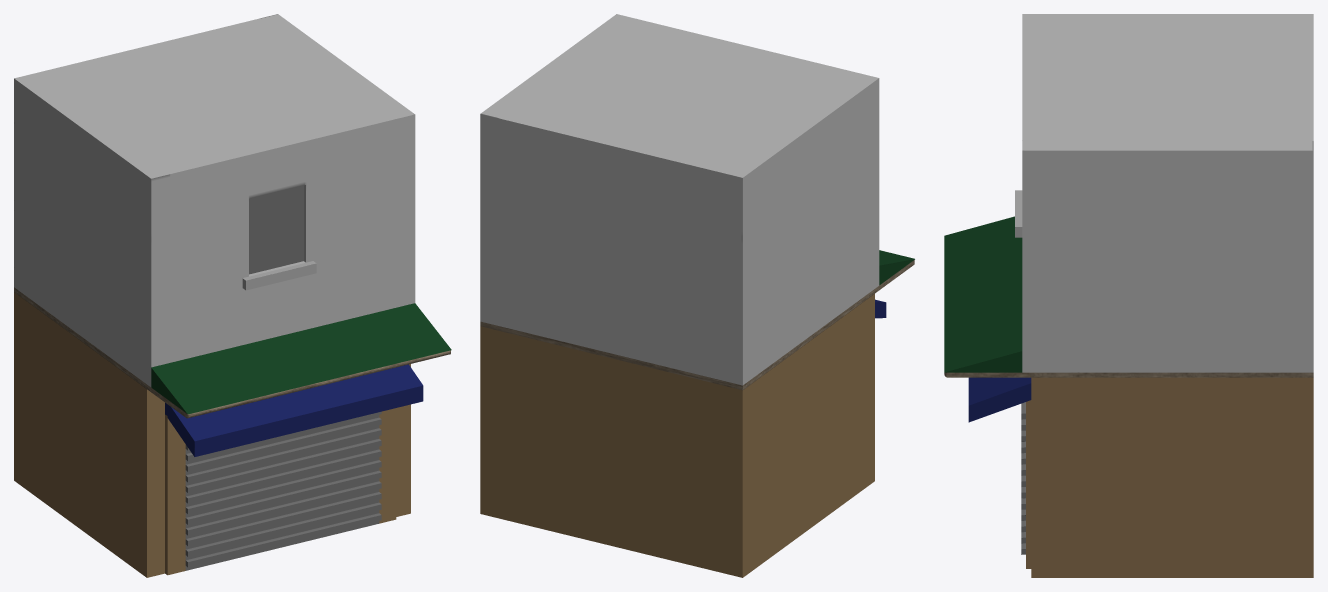
The model's file is ap_loja com portão fechado.fbx.
3 views of the same model, side by side, from view 1: azimuth 30°, elevation 25°; view 2: azimuth 150°, elevation 25°; view 3: azimuth 270°, elevation 25° (orthographic). The views are drawn at different scales.
Parts seen in each view (by area): view 1: Andar de cima, Térreo, Portão, Telha, Lona, Vidro, Telha - andar, Madeira, Parapeito janela; view 2: Andar de cima, Térreo, Telha - andar, Madeira, Telha; view 3: Andar de cima, Térreo, Telha, Telha - andar, Madeira, Lona, Portão.
Boxes of the visible parts, bbox=[...] form: Andar de cima: bbox=[14, 14, 415, 367]; Térreo: bbox=[14, 292, 410, 577]; Portão: bbox=[185, 411, 381, 570]; Telha: bbox=[151, 303, 451, 414]; Lona: bbox=[165, 364, 423, 456]; Vidro: bbox=[249, 185, 303, 274]; Telha - andar: bbox=[14, 267, 151, 387]; Madeira: bbox=[14, 287, 450, 418]; Parapeito janela: bbox=[242, 261, 316, 290]; Andar de cima: bbox=[480, 14, 879, 365]; Térreo: bbox=[480, 294, 874, 577]; Telha - andar: bbox=[480, 266, 879, 385]; Madeira: bbox=[480, 260, 914, 390]; Telha: bbox=[879, 250, 914, 285]; Andar de cima: bbox=[1022, 14, 1313, 351]; Térreo: bbox=[1026, 377, 1313, 577]; Telha: bbox=[944, 216, 1022, 372]; Telha - andar: bbox=[1022, 351, 1313, 372]; Madeira: bbox=[944, 372, 1313, 377]; Lona: bbox=[968, 377, 1031, 422]; Portão: bbox=[1021, 402, 1025, 554].
Bounding box in the file's own units: 830 × 1209 × 947.
